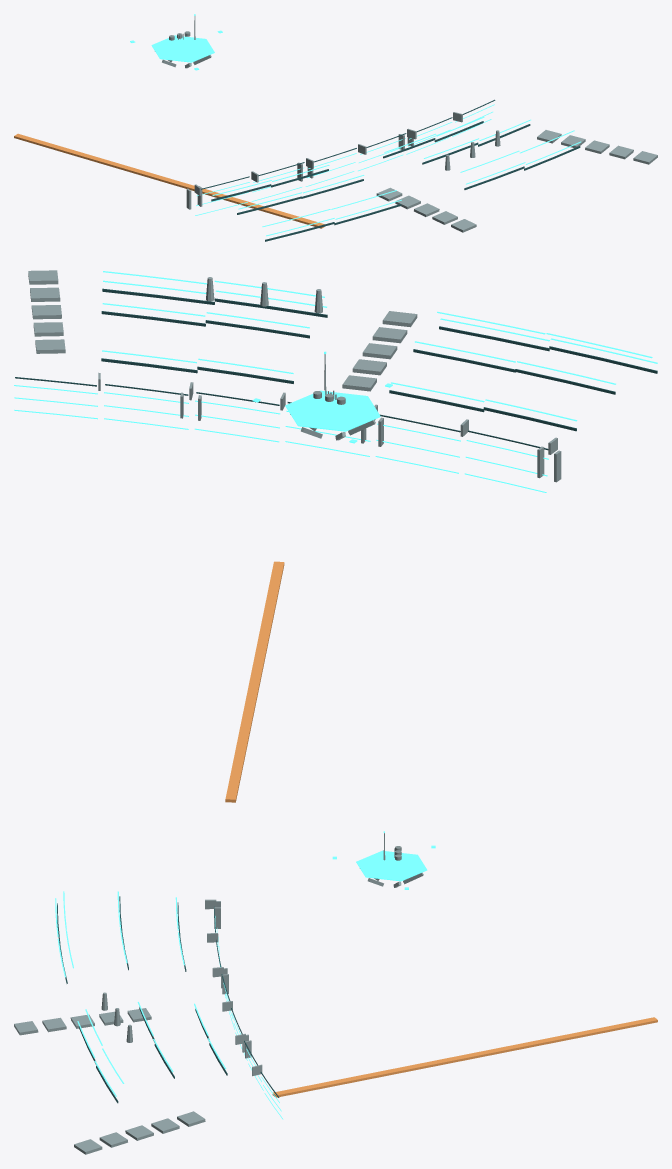
Rendered from Weather_Lung_Sector_09_Dressing.glb.
3 views of the same model, one above another, from view 1: azimuth 30°, elevation 25°; view 2: azimuth 150°, elevation 25°; view 3: azimuth 270°, elevation 25° (orthographic). The views are drawn at different scales.
Parts seen in each view (by area): view 1: Weather_Lung_Sector_09_Dressing; view 2: Weather_Lung_Sector_09_Dressing; view 3: Weather_Lung_Sector_09_Dressing.
Part boxes in pixels (box(x1,y1,x2,y2)): Weather_Lung_Sector_09_Dressing: box(14, 14, 657, 241); Weather_Lung_Sector_09_Dressing: box(14, 270, 657, 802); Weather_Lung_Sector_09_Dressing: box(14, 831, 657, 1154).
Size of the model in its own units: 6157 by 2813 by 7422.
